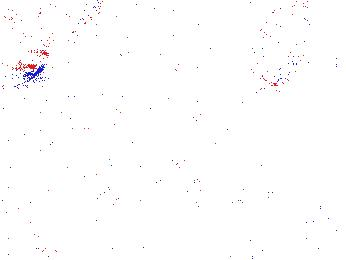moon jellyfish: (255, 4, 315, 88), (174, 1, 273, 43), (1, 4, 45, 86)
